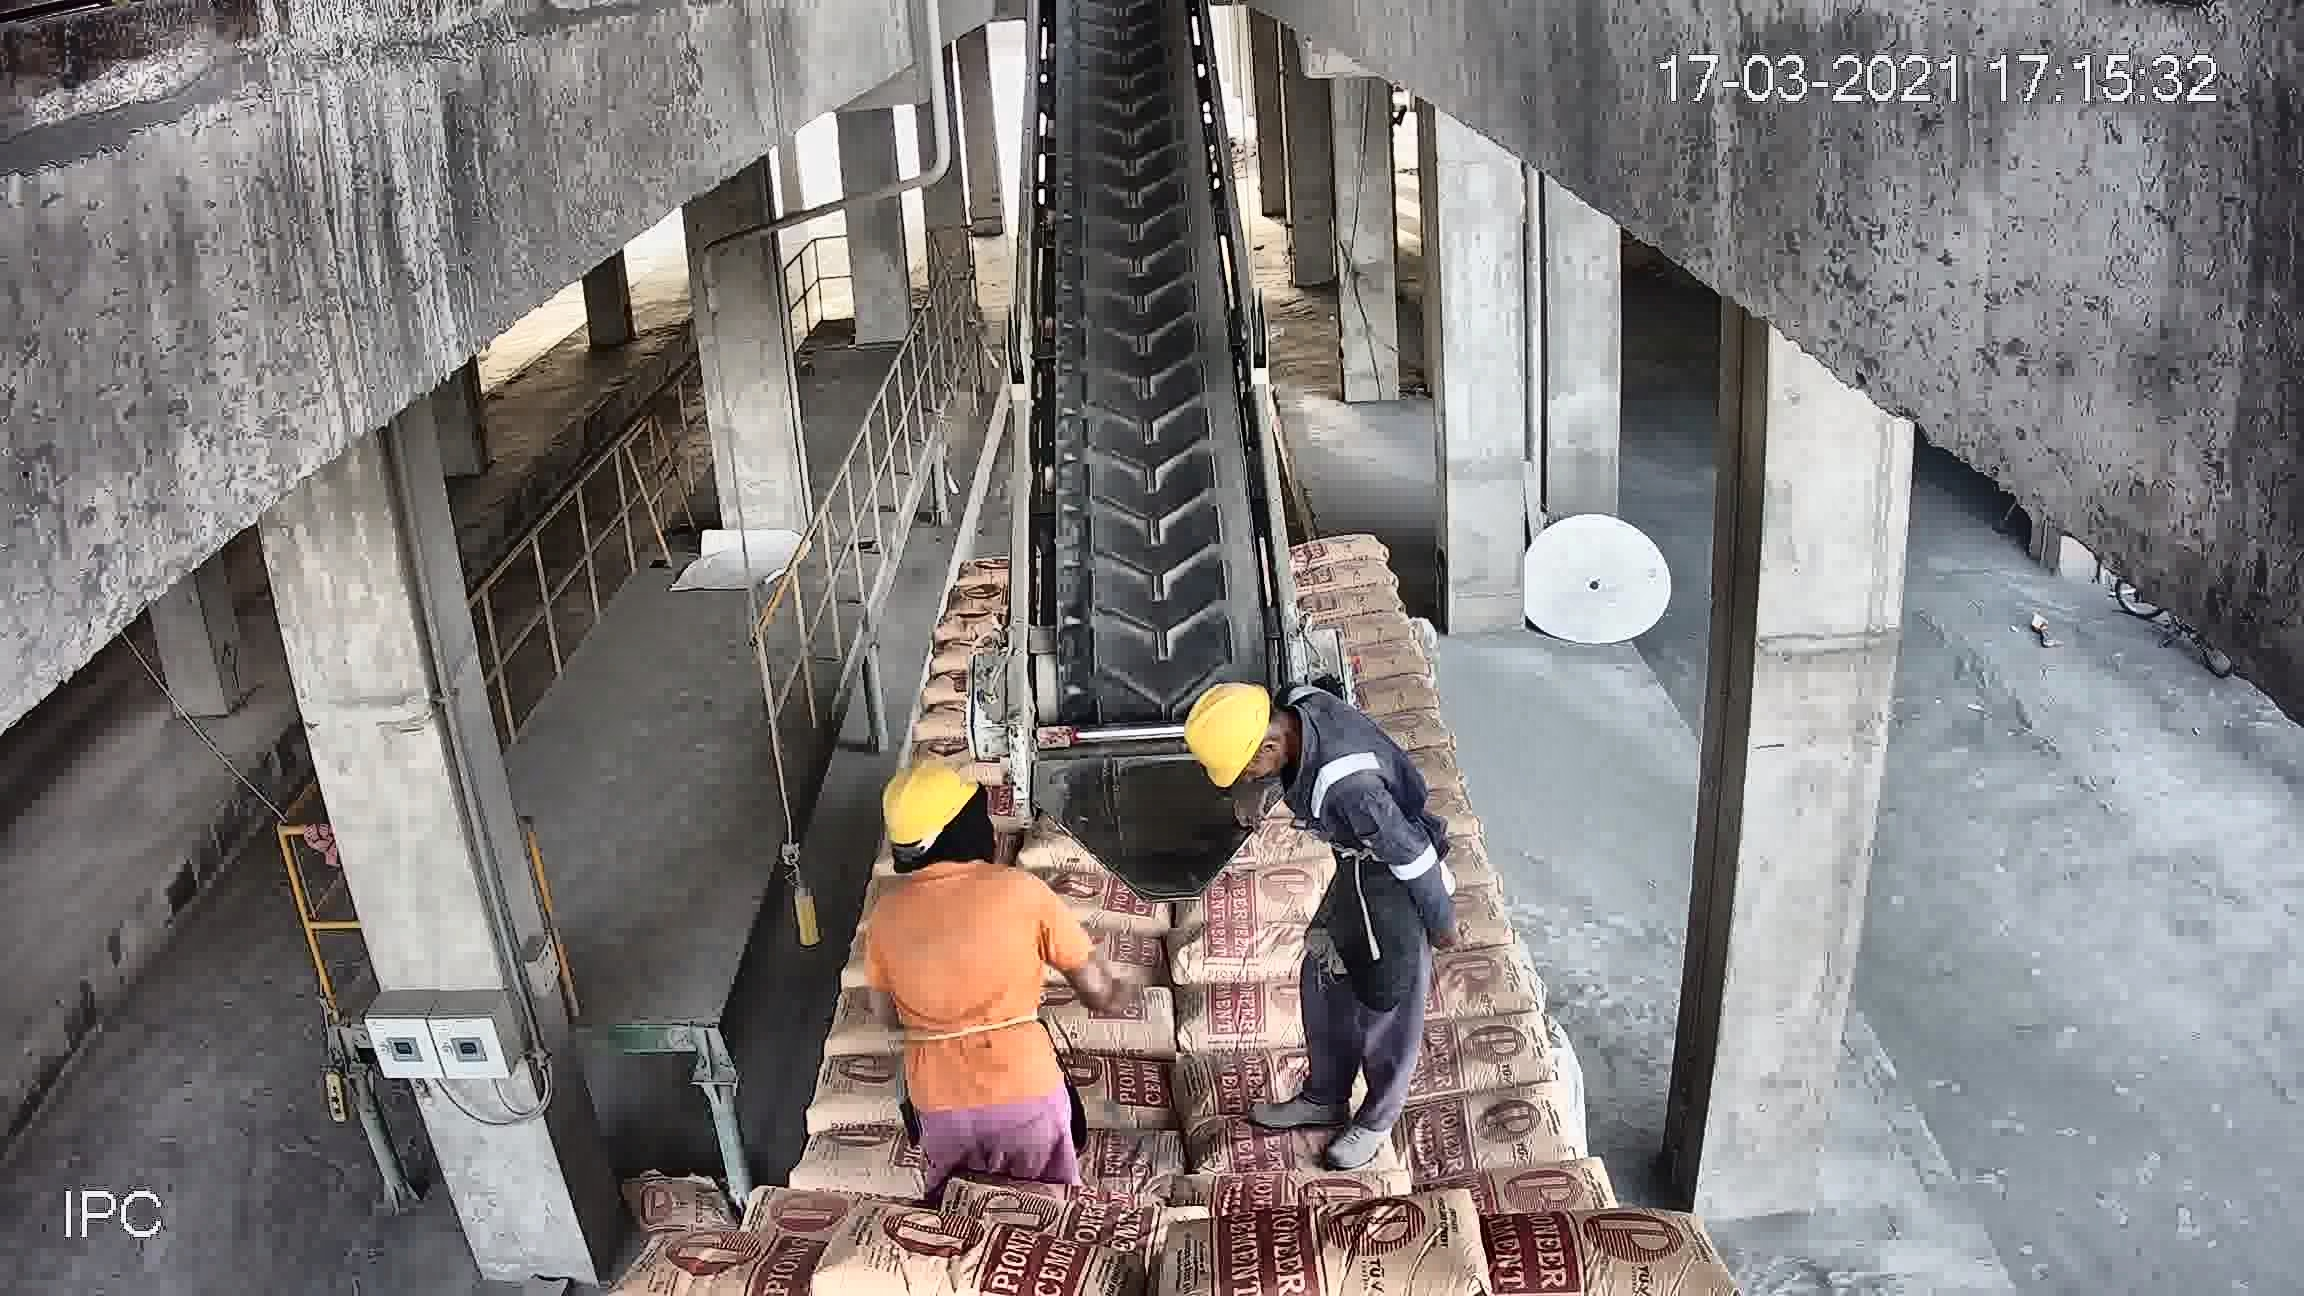bag_h: (1206, 1190, 1516, 1294), (1445, 1204, 1704, 1294), (809, 1222, 1108, 1294), (1408, 1074, 1603, 1176), (1388, 1017, 1578, 1116), (638, 1222, 858, 1294), (1388, 949, 1570, 1036), (774, 1128, 946, 1203), (1173, 1166, 1404, 1217), (1173, 967, 1290, 1063), (1040, 991, 1196, 1059), (1165, 915, 1310, 987), (1437, 1160, 1608, 1222), (1055, 1052, 1193, 1124), (1291, 532, 1396, 573), (1291, 555, 1396, 597)
belt: (1014, 47, 1279, 783)
